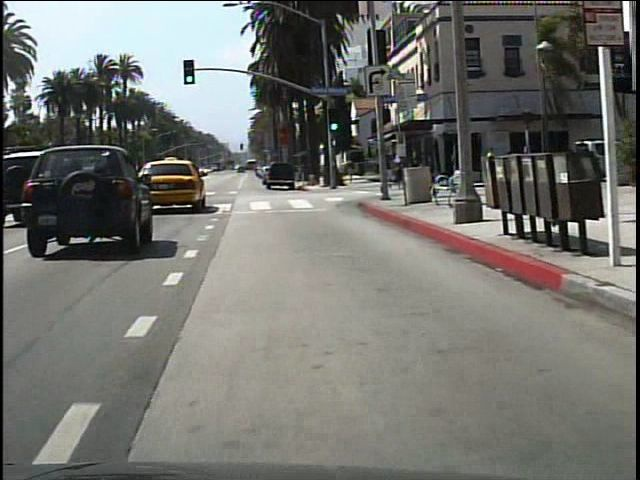person: (482, 146, 503, 189), (385, 150, 401, 195)
